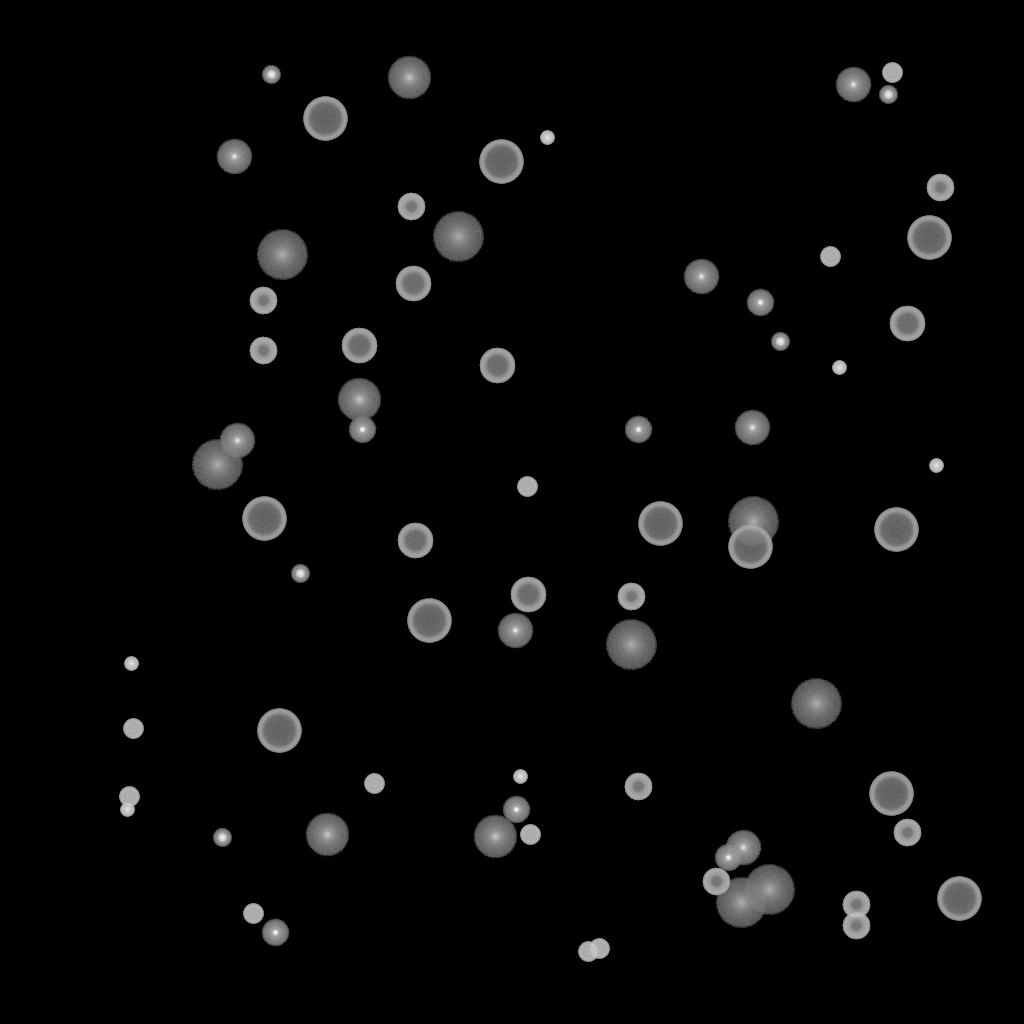depth:-10: (714, 844, 742, 872), (502, 796, 530, 824), (348, 416, 376, 444), (624, 416, 652, 444), (746, 289, 774, 317), (261, 919, 289, 947)
depth:-20: (879, 86, 897, 104), (291, 565, 309, 583), (213, 829, 231, 847), (262, 66, 280, 84), (771, 333, 789, 351)
depth:-30: (124, 657, 138, 671), (120, 803, 134, 817), (929, 459, 943, 473), (513, 770, 527, 784), (832, 361, 846, 375), (540, 131, 554, 145)
depth:-40: (589, 939, 609, 959), (578, 942, 598, 962), (364, 774, 384, 794), (119, 787, 139, 807), (243, 904, 263, 924), (517, 477, 537, 497), (820, 247, 840, 267), (520, 825, 540, 845), (882, 63, 902, 83), (123, 719, 143, 739)
depth:-50: (617, 583, 645, 611), (842, 891, 870, 919), (926, 174, 954, 202), (249, 287, 277, 315), (624, 773, 652, 801), (893, 819, 921, 847), (397, 193, 425, 221), (842, 912, 870, 940), (249, 337, 277, 365), (702, 868, 730, 896)
depth:-60: (397, 523, 433, 559), (395, 266, 431, 302), (889, 306, 925, 342), (341, 328, 377, 364), (479, 348, 515, 384), (510, 577, 546, 613)
depth:-70: (874, 508, 918, 552), (869, 772, 913, 816), (479, 140, 523, 184), (242, 497, 286, 541), (937, 877, 981, 921), (407, 599, 451, 643), (257, 709, 301, 753), (728, 525, 772, 569), (638, 502, 682, 546), (907, 216, 951, 260), (303, 97, 347, 141)
depth:0: (497, 613, 533, 649), (683, 259, 719, 295), (216, 139, 252, 175), (725, 830, 761, 866), (835, 67, 871, 103), (734, 410, 770, 446), (219, 423, 255, 459)
depth:10: (337, 378, 381, 422), (387, 56, 431, 100), (305, 813, 349, 857), (473, 815, 517, 859)
depth:20: (432, 212, 484, 262), (605, 620, 657, 670), (790, 679, 842, 729), (191, 440, 243, 490), (743, 865, 795, 915), (727, 497, 779, 547), (256, 230, 308, 280), (715, 878, 767, 928)
